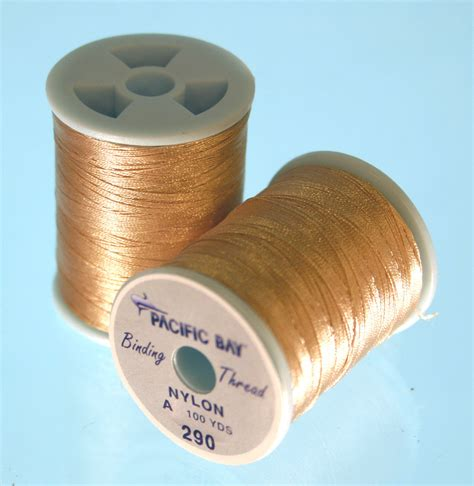nylon: (54, 100, 426, 426)
